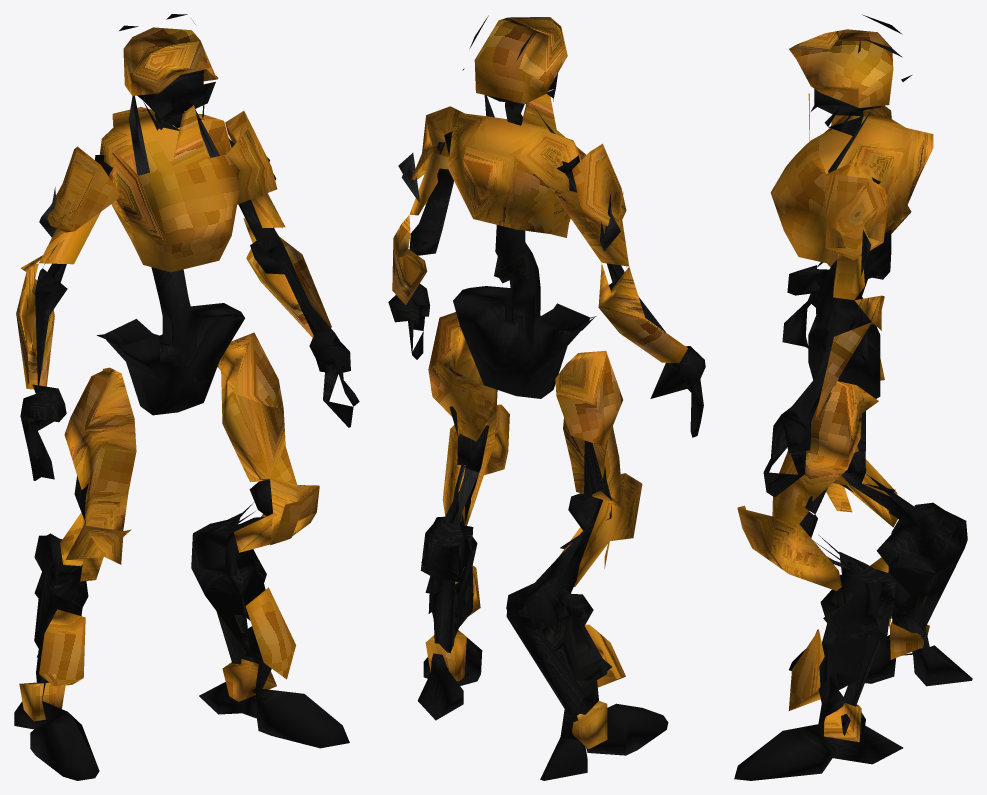
The model's file is npc-biped-lod.glb.
The picture shows the model from 3 angles, left to right: view 1: azimuth 30°, elevation 25°; view 2: azimuth 150°, elevation 25°; view 3: azimuth 270°, elevation 25°; orthographic projection.
Parts seen in each view (by area): view 1: Object_8_baked, Object_7_baked, Object_9_baked; view 2: Object_8_baked, Object_7_baked, Object_9_baked; view 3: Object_8_baked, Object_7_baked, Object_9_baked.
Part boxes in pixels (x1,y1,x2,y2): Object_8_baked: [16, 27, 331, 721]; Object_7_baked: [14, 14, 359, 780]; Object_9_baked: [39, 95, 276, 534]; Object_8_baked: [392, 17, 687, 749]; Object_7_baked: [388, 15, 705, 780]; Object_9_baked: [398, 95, 620, 522]; Object_8_baked: [737, 29, 933, 741]; Object_7_baked: [734, 14, 972, 780]; Object_9_baked: [818, 107, 873, 569].
Size of what is drawn, in the model's own units: 78.63 by 167 by 51.92.
Materials: 3 (3 with a texture image).
